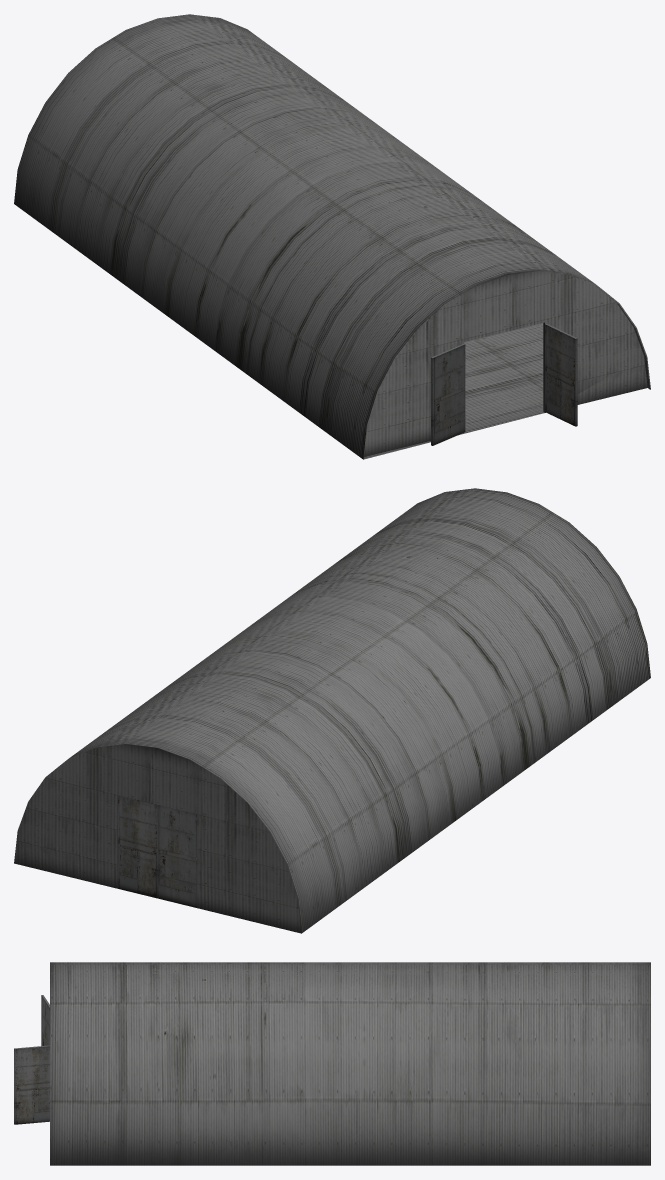
Rendered from Dhz_zsfz_02.FBX.
The picture shows the model from 3 angles, top to bottom: view 1: azimuth 30°, elevation 25°; view 2: azimuth 150°, elevation 25°; view 3: azimuth 270°, elevation 25°; orthographic projection. The views are drawn at different scales.
Visible parts, largest first — view 1: Dhz_zsfz_02; view 2: Dhz_zsfz_02; view 3: Dhz_zsfz_02.
Boxes of the visible parts, x1=… form: Dhz_zsfz_02: x1=14, y1=14, x2=650, y2=459; Dhz_zsfz_02: x1=14, y1=488, x2=650, y2=933; Dhz_zsfz_02: x1=14, y1=962, x2=650, y2=1165.
Size of the model in its own units: 14.27 by 7.13 by 31.8.
Materials: 1 (1 with a texture image).
